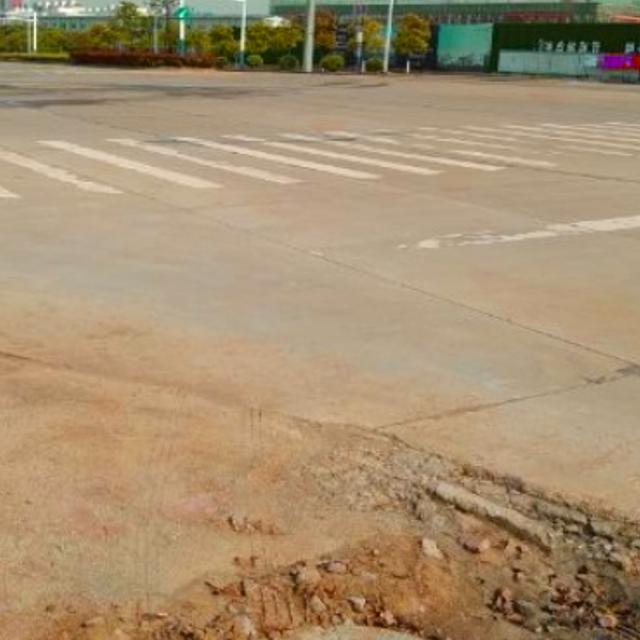broke: (208, 625, 532, 640)
